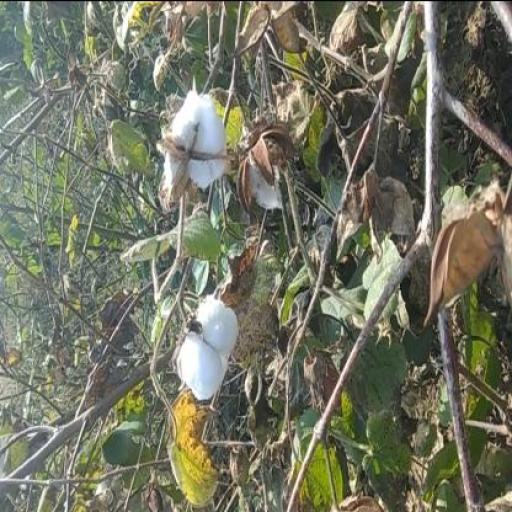cotton_ready: (153, 78, 237, 214), (170, 274, 248, 408)
